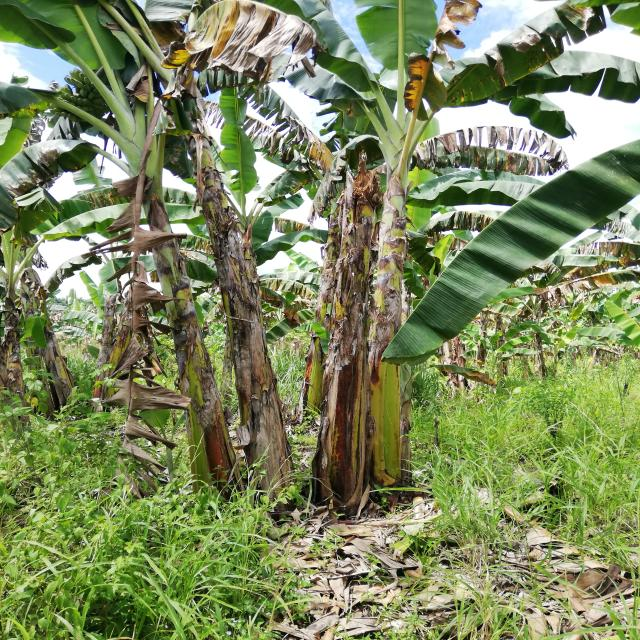Banana-plant: (162, 71, 296, 504), (93, 109, 239, 506), (344, 98, 440, 519)
